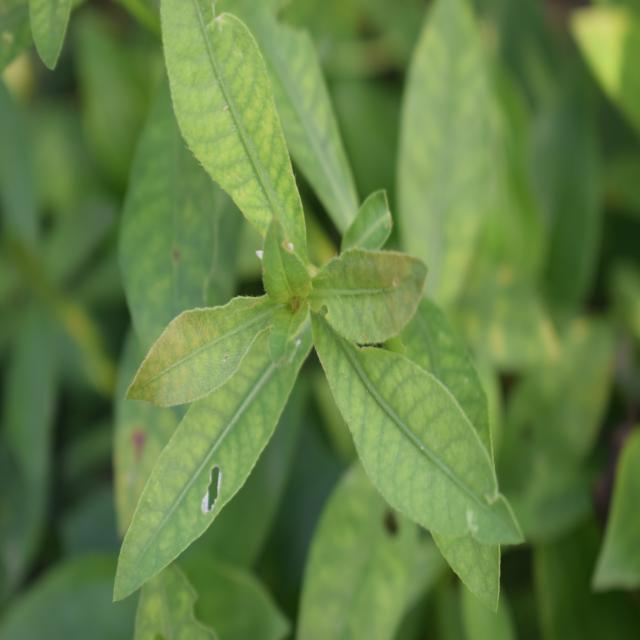Alligatorweed: (113, 0, 522, 622)
